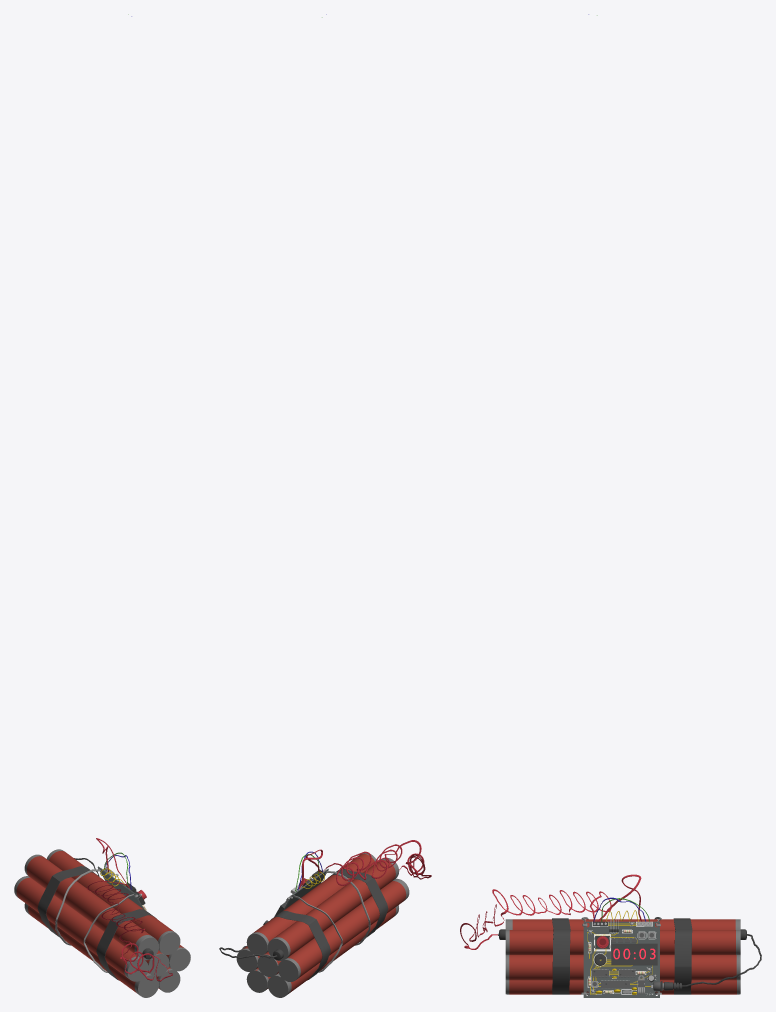
File: bomba_3.glb
3 renders of one model, left to right at view 1: azimuth 30°, elevation 25°; view 2: azimuth 150°, elevation 25°; view 3: azimuth 270°, elevation 25°, orthographic. The views are drawn at different scales.
Parts seen in each view (by area): view 1: Cylinder.005_5, Cylinder.002_2, Cylinder.006_6, Cylinder.003_3, Spiral.003_308, Plane.168_313, Plane_8, Cylinder.001_1; view 2: Cylinder.002_2, Cylinder.005_5, Cylinder.006_6, Spiral.003_308, Cylinder.003_3, Plane.168_313, Plane_8; view 3: Cube_7, Cylinder.001_1, Cylinder.006_6, Cylinder.004_4, Cylinder.005_5, Plane_8, Plane.168_313, Spiral.003_308, Cube.001_9.
Boxes of the visible parts, box(x1,y1,x2,y2) form: Cylinder.005_5: box(24, 854, 158, 960); Cylinder.002_2: box(14, 876, 148, 981); Cylinder.006_6: box(47, 849, 180, 954); Cylinder.003_3: box(24, 903, 158, 997); Spiral.003_308: box(87, 881, 172, 981); Plane.168_313: box(37, 866, 97, 936); Plane_8: box(96, 909, 156, 980); Cylinder.001_1: box(166, 945, 190, 971); Cylinder.002_2: box(278, 878, 409, 981); Cylinder.005_5: box(267, 857, 399, 960); Cylinder.006_6: box(246, 853, 376, 955); Spiral.003_308: box(323, 840, 431, 885); Cylinder.003_3: box(267, 905, 398, 997); Plane.168_313: box(271, 911, 330, 980); Plane_8: box(328, 869, 388, 936); Cube_7: box(583, 921, 659, 997); Cylinder.001_1: box(505, 955, 740, 980); Cylinder.006_6: box(505, 930, 740, 954); Cylinder.004_4: box(505, 980, 740, 994); Cylinder.005_5: box(505, 919, 740, 929); Plane_8: box(552, 918, 570, 994); Plane.168_313: box(673, 918, 692, 994); Spiral.003_308: box(460, 889, 611, 949); Cube.001_9: box(611, 943, 657, 965).
Size of the model in its own units: 1.98 by 19.45 by 5.41.
